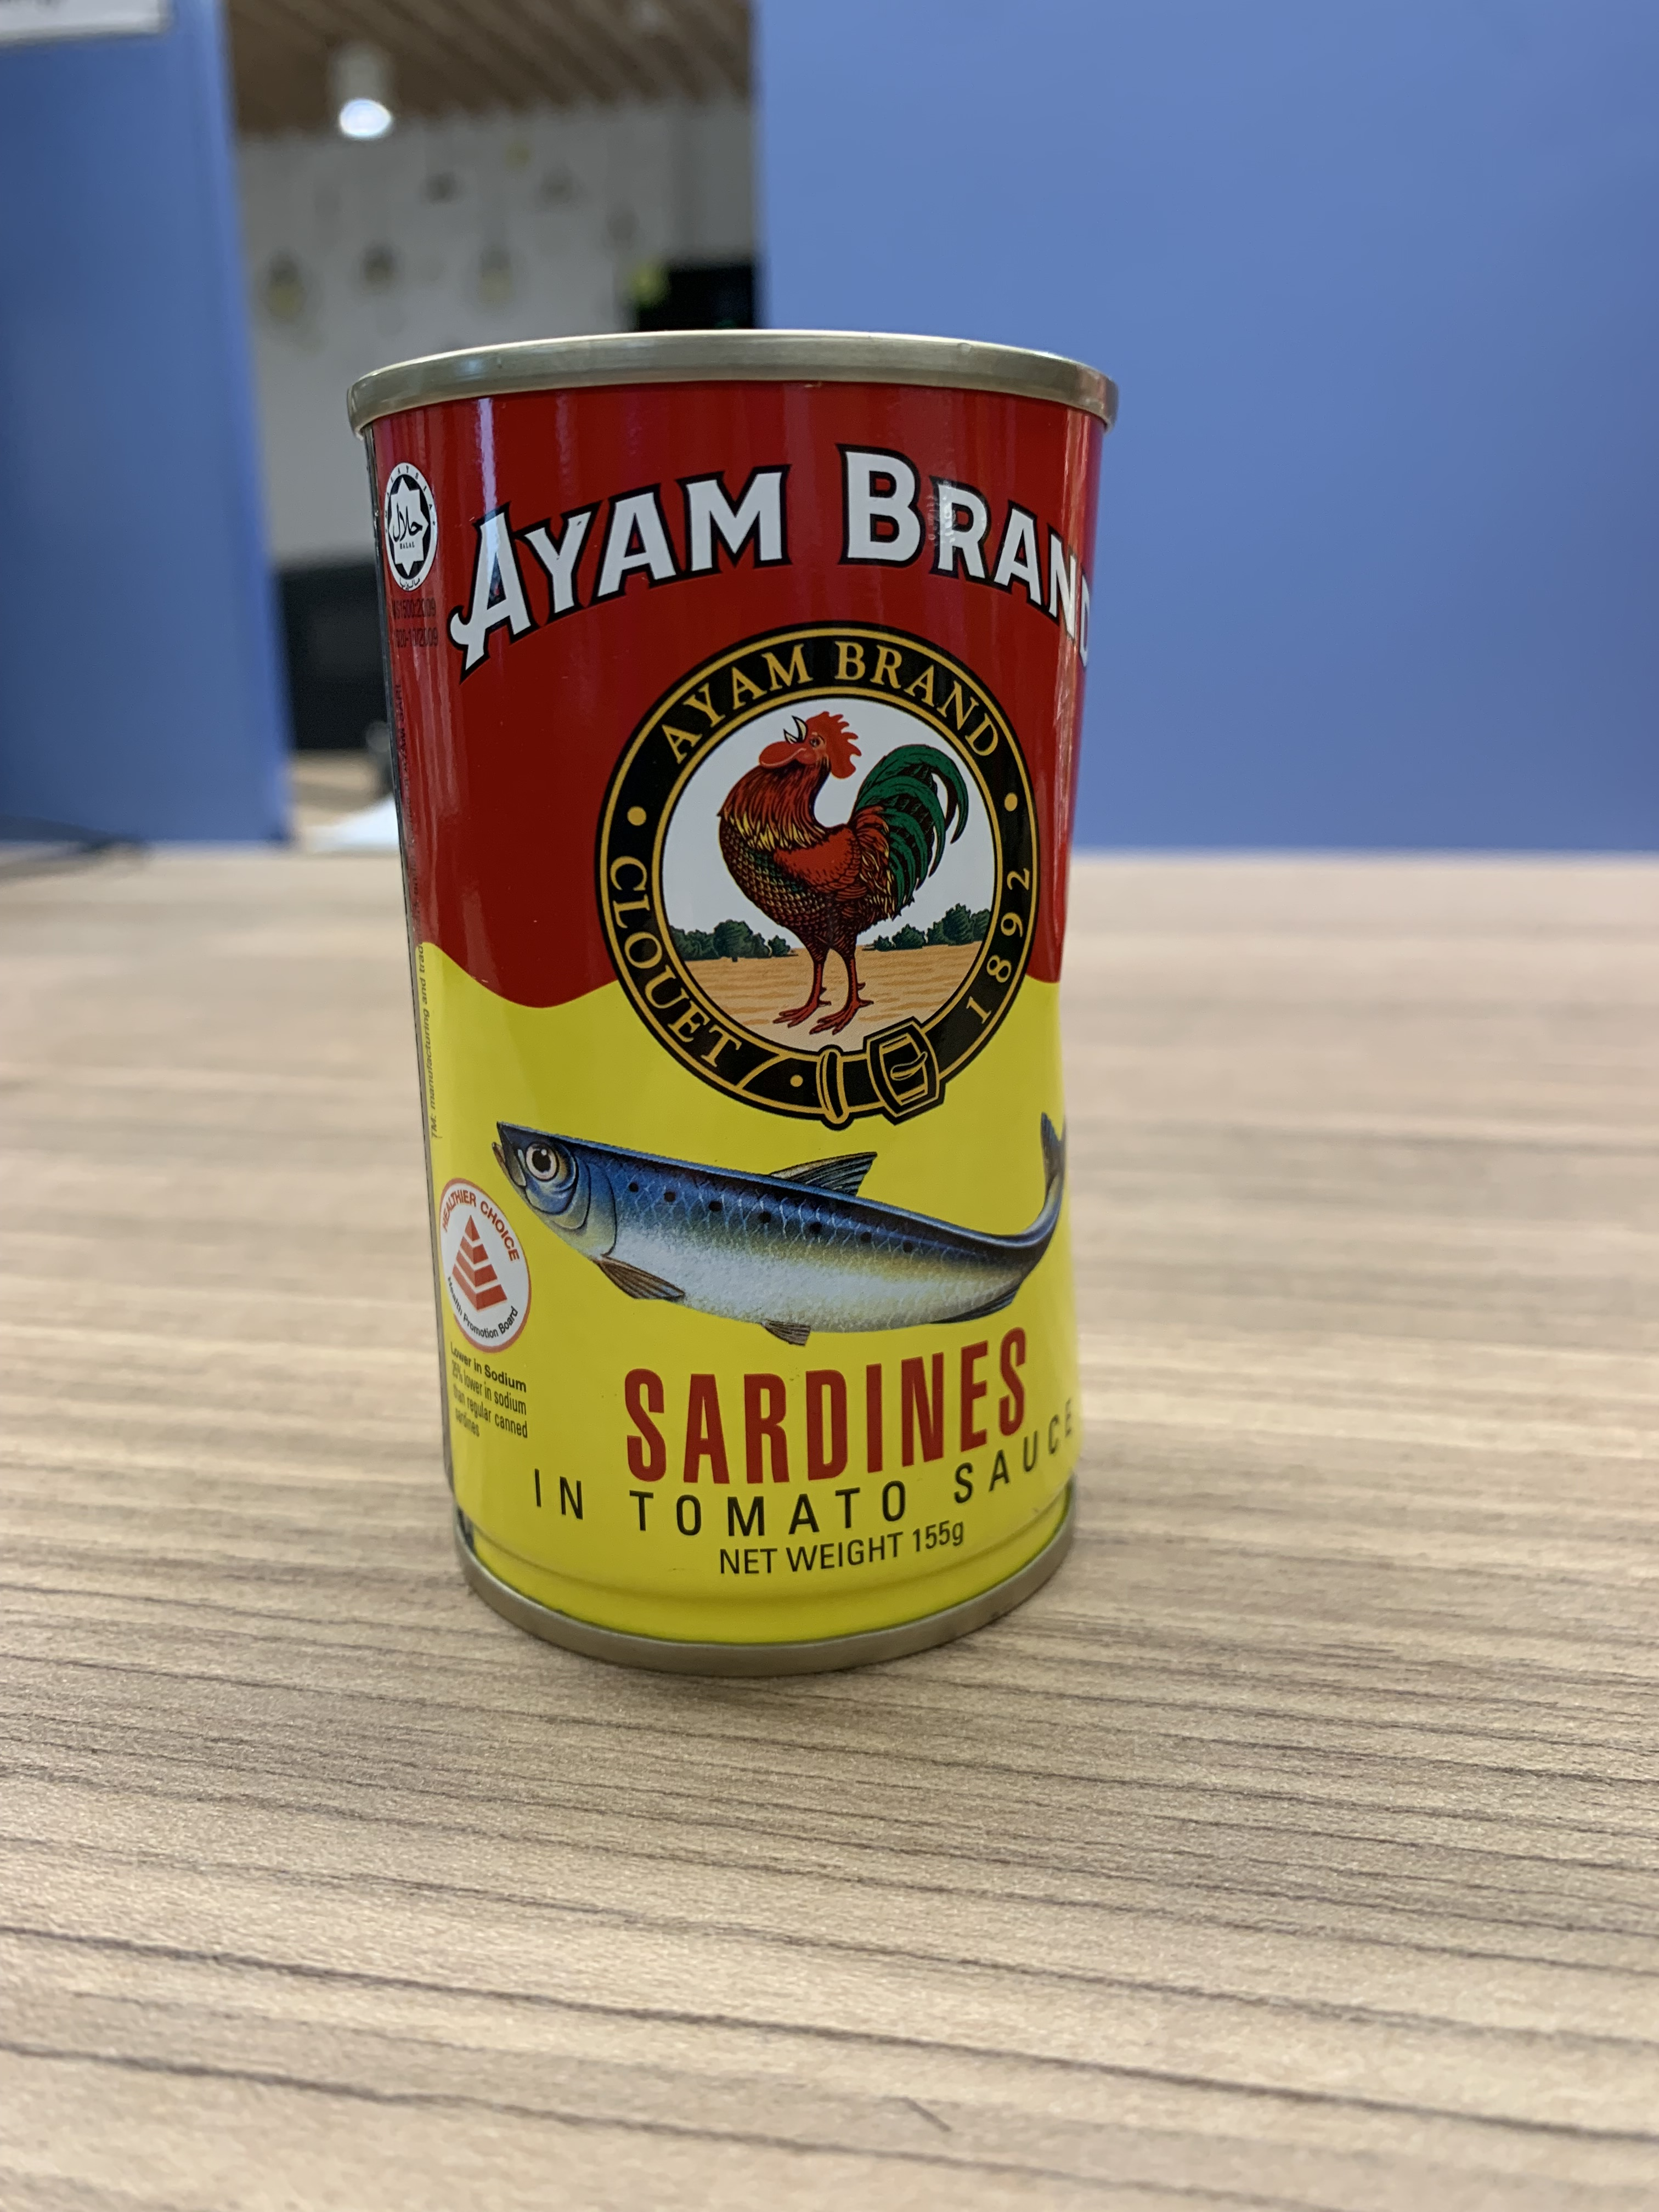sardines_100g-199g: (406, 444, 1072, 1637)
